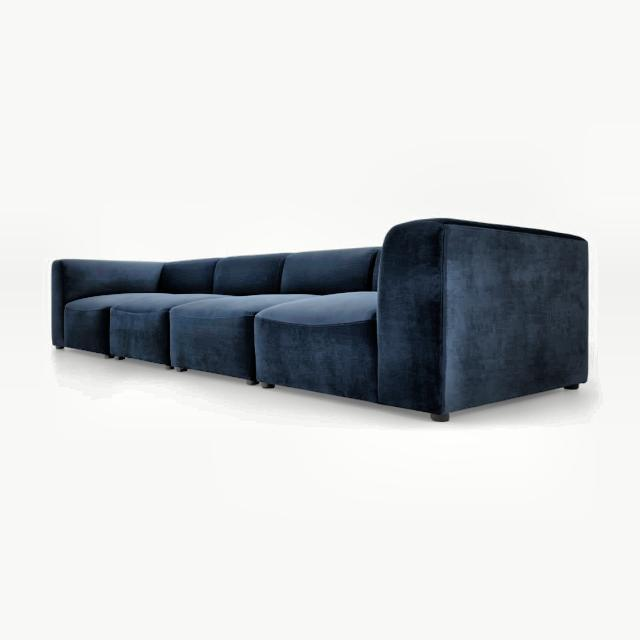sofa: (50, 219, 591, 424)
